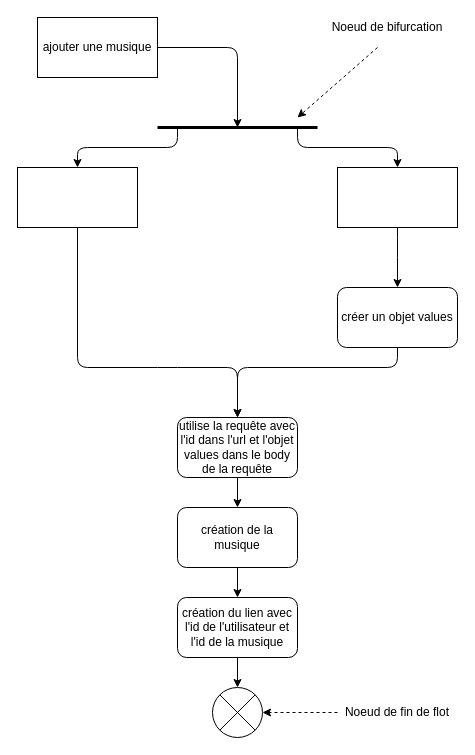
The diagram is 475 pixels wide and 755 high, and some of its shapes have lost their labels. Each missing label, with the centre of its shape:
"récupère l'id dans le localstorage de l'utilisateur" goes at [77,197].
"récupère le titre et le nom de l'artiste" goes at [397,197].
